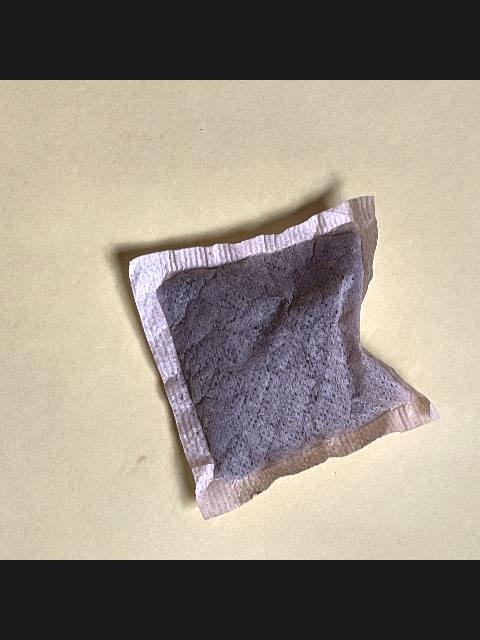teabag: (125, 195, 439, 523)
